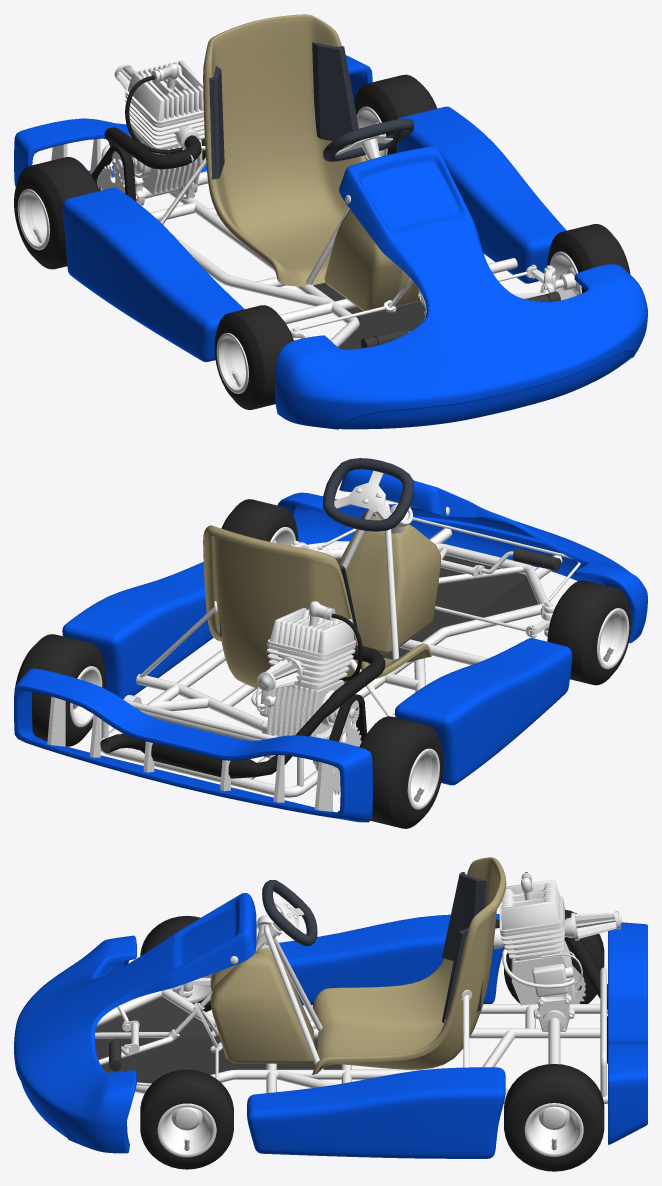
Rendered from kart.fbx.
3 views of the same model, one above another, from view 1: azimuth 30°, elevation 25°; view 2: azimuth 150°, elevation 25°; view 3: azimuth 270°, elevation 25° (orthographic). The views are drawn at different scales.
Visible parts, largest first — view 1: Frente (×2), Plane05, ChamferBox01 (×2), Object04, Plane06, Line15, Line13, Object15, Line07, Line14, Plane03, Torus04 (+7 smaller); view 2: Frente (×2), Plane05, Object04, ChamferBox01 (×2), Line13, Line15, Torus04, Plane03, Line07, Plane04, Object15, Torus01 (+13 smaller); view 3: Frente (×2), Plane05, Object04, ChamferBox01 (×2), Plane03, Line07, Line14, Object15, Plane06, Line06, Line08, Box01 (+9 smaller).
Part boxes in pixels (x1,y1,x2,y2): Frente (×2): (14,55,647,429); Plane05: (203,14,366,286); ChamferBox01 (×2): (125,93,420,312); Object04: (100,138,555,347); Plane06: (209,42,358,179); Line15: (214,305,293,409); Line13: (14,157,99,269); Object15: (125,60,203,124); Line07: (354,74,437,154); Line14: (547,224,630,293); Plane03: (313,282,425,349); Torus04: (104,127,205,169); Frente (×2): (14,469,647,822); Plane05: (203,525,431,688); Object04: (100,501,562,797); ChamferBox01 (×2): (267,516,440,687); Line13: (359,716,443,828); Line15: (547,580,631,685); Torus04: (100,645,385,778); Plane03: (336,555,537,659); Line07: (14,634,105,746); Plane04: (47,696,332,811); Object15: (267,607,355,657); Torus01: (323,458,413,531); Frente (×2): (14,893,647,1158); Plane05: (312,857,506,1074); Object04: (95,912,607,1103); ChamferBox01 (×2): (210,901,564,1063); Plane03: (95,996,341,1083); Line07: (504,1064,604,1171); Line14: (140,1069,233,1169); Object15: (499,879,563,933); Plane06: (442,872,486,1023); Line06: (157,1103,216,1157); Line08: (524,1103,583,1156); Box01: (511,940,574,1005).
Size of the model in its own units: 1653 by 887 by 2448.
